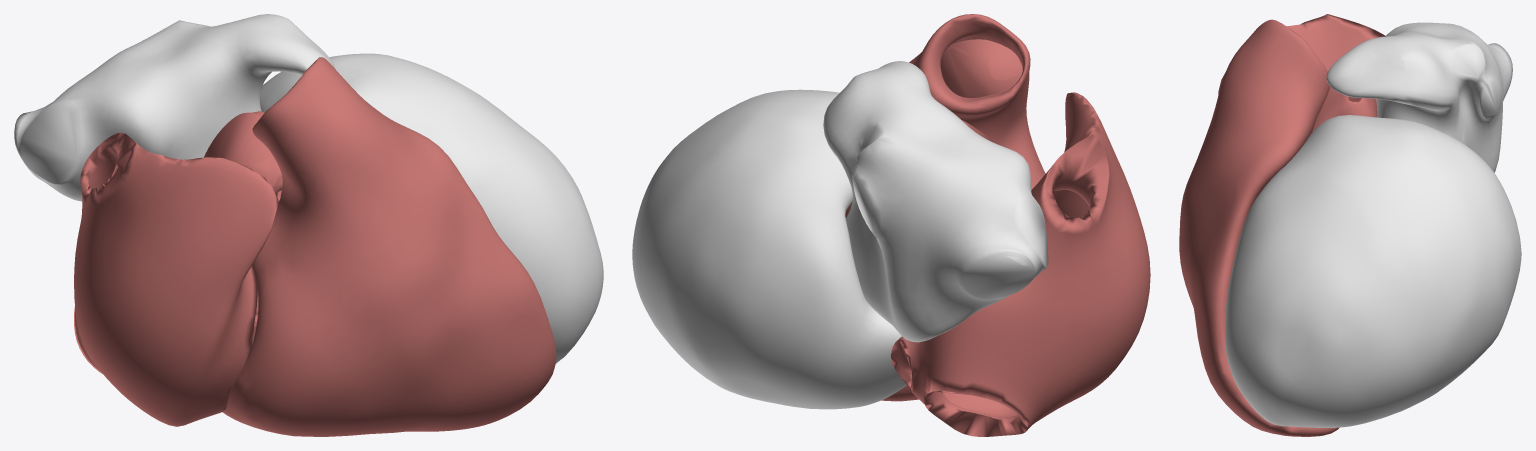
File: vh_f_heart-80.fbx
3 renders of one model, left to right at view 1: azimuth 30°, elevation 25°; view 2: azimuth 150°, elevation 25°; view 3: azimuth 270°, elevation 25°, orthographic. The views are drawn at different scales.
Visible parts, largest first — view 1: VH_F_right_ventricle, VH_F_right_cardiac_atrium, VH_F_left_ventricle, VH_F_left_cardiac_atrium, VH_F_aortic_valve; view 2: VH_F_left_ventricle, VH_F_left_cardiac_atrium, VH_F_right_cardiac_atrium, VH_F_right_ventricle, VH_F_pulmonary_valve; view 3: VH_F_left_ventricle, VH_F_right_ventricle, VH_F_left_cardiac_atrium, VH_F_right_cardiac_atrium, VH_F_aortic_valve.
Boxes of the visible parts, x1,y1,x2,y2 form: VH_F_right_ventricle: (222,57,556,436); VH_F_right_cardiac_atrium: (74,132,278,426); VH_F_left_ventricle: (259,53,603,363); VH_F_left_cardiac_atrium: (14,14,335,201); VH_F_aortic_valve: (204,111,282,202); VH_F_left_ventricle: (632,89,906,409); VH_F_left_cardiac_atrium: (823,61,1048,342); VH_F_right_cardiac_atrium: (890,92,1150,436); VH_F_right_ventricle: (881,14,1045,401); VH_F_pulmonary_valve: (940,39,1022,108); VH_F_left_ventricle: (1225,115,1521,427); VH_F_right_ventricle: (1179,19,1339,436); VH_F_left_cardiac_atrium: (1326,22,1512,172); VH_F_right_cardiac_atrium: (1218,14,1385,101); VH_F_aortic_valve: (1312,87,1377,132).
Bounding box in the file's own units: 14.25 × 11 × 10.15.
